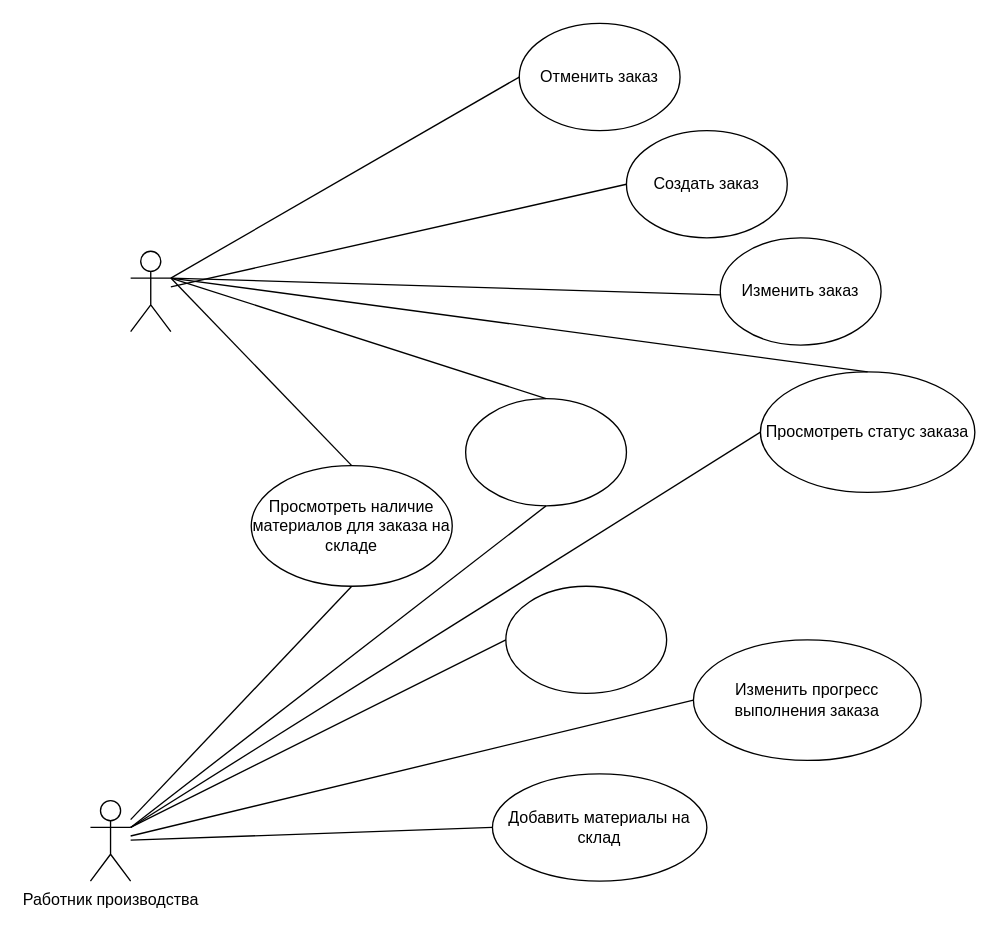
Image size: 998x933. Some labels were removed from this diagram. Here are the shapes that lost their labels. From the top down, the box of each, then its label:
(129, 250, 171, 332): Менеджер
(464, 397, 626, 506): Просмотреть материалы на складе
(505, 585, 667, 693): Изменить статус заказа
